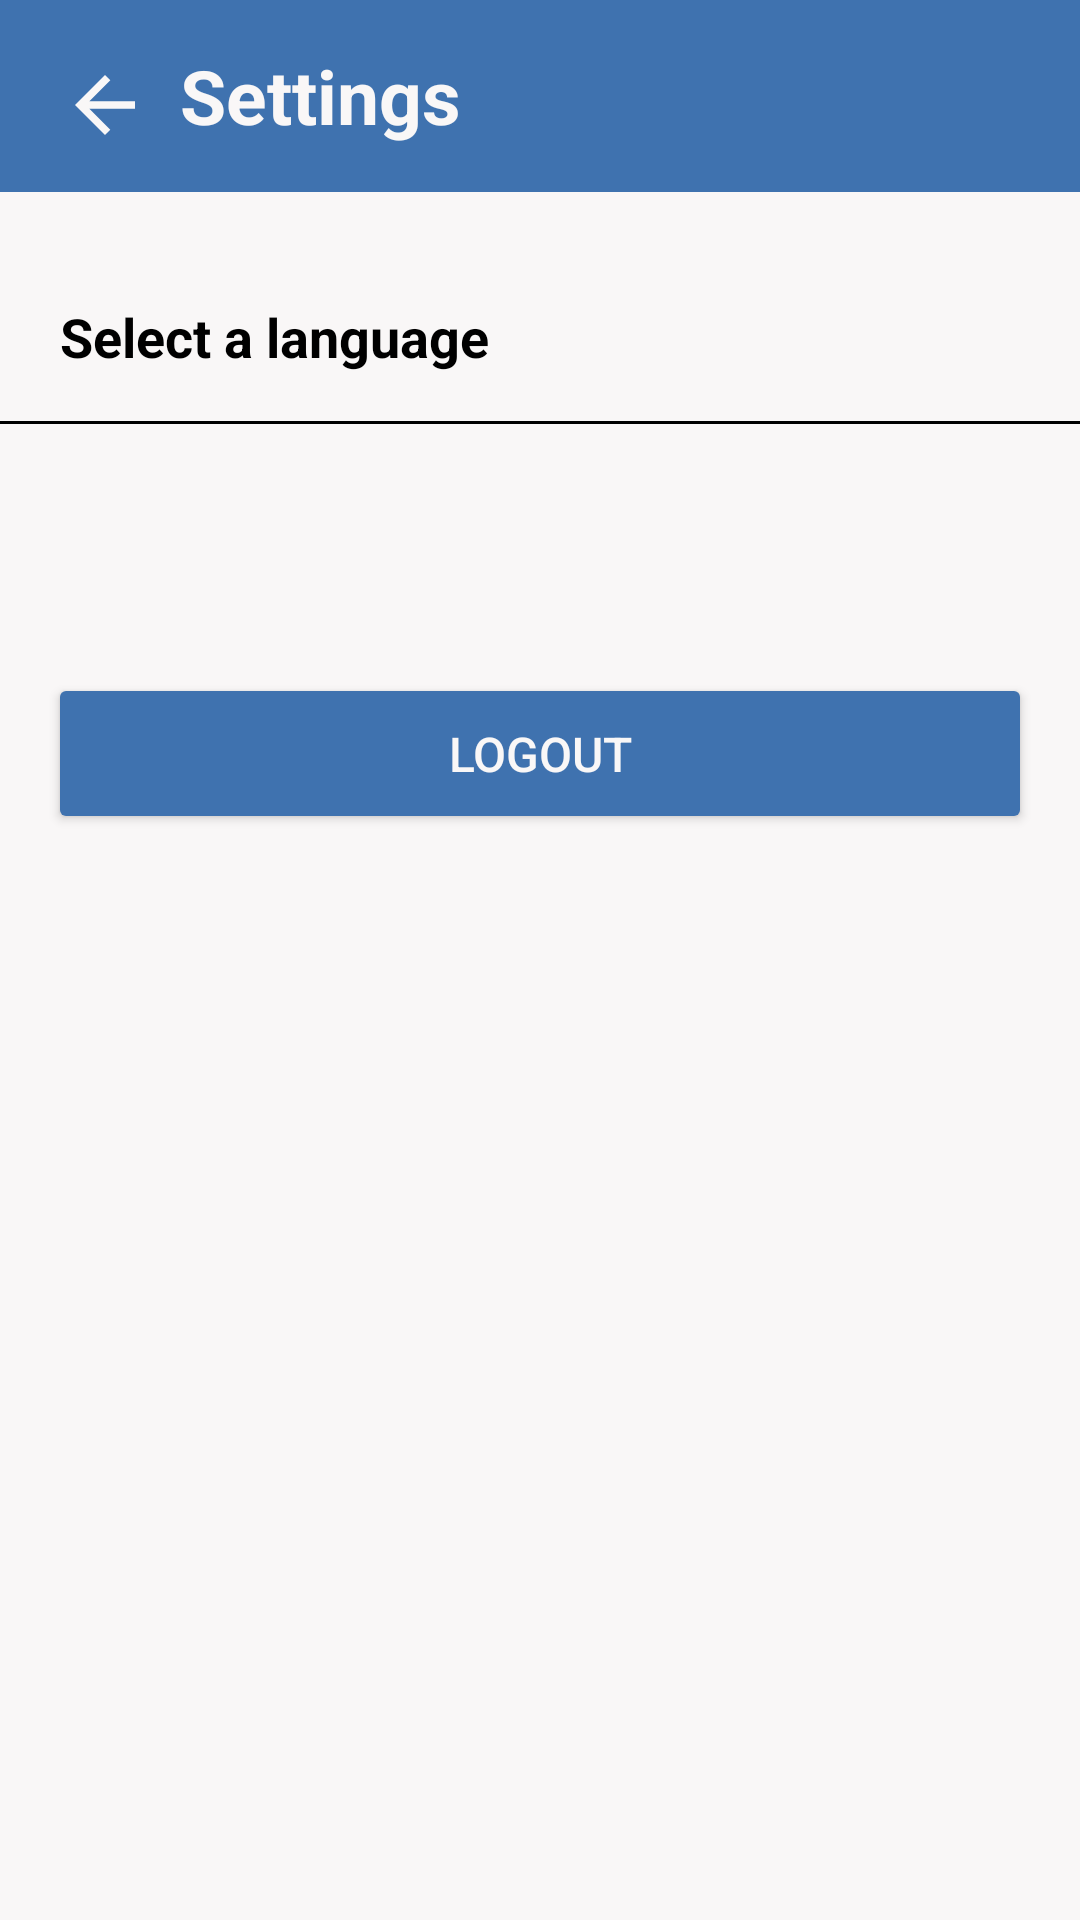

Icon click points for this 1080px x 1920px phone screenshot, format [x,y]:
Back: [105,105]
